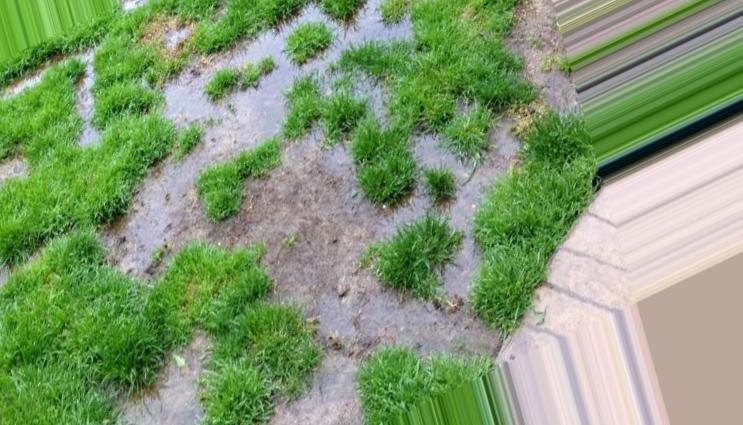patch: (266, 180, 346, 281), (176, 78, 293, 131), (360, 292, 459, 341), (149, 371, 213, 415), (290, 369, 347, 414), (140, 190, 172, 258), (340, 25, 405, 43), (421, 136, 448, 165)
